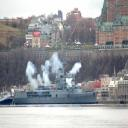Portanaves: (10, 68, 102, 106)
